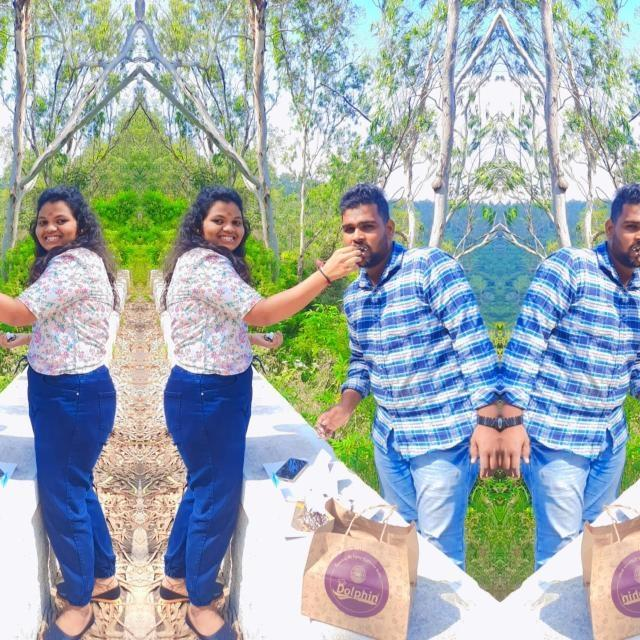person: (338, 194, 498, 506), (173, 182, 275, 616), (5, 182, 107, 616), (502, 194, 640, 506)
